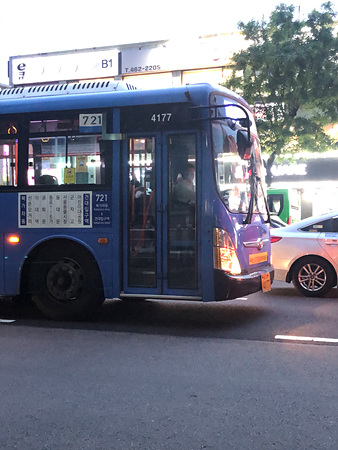entrance: (120, 129, 204, 302)
